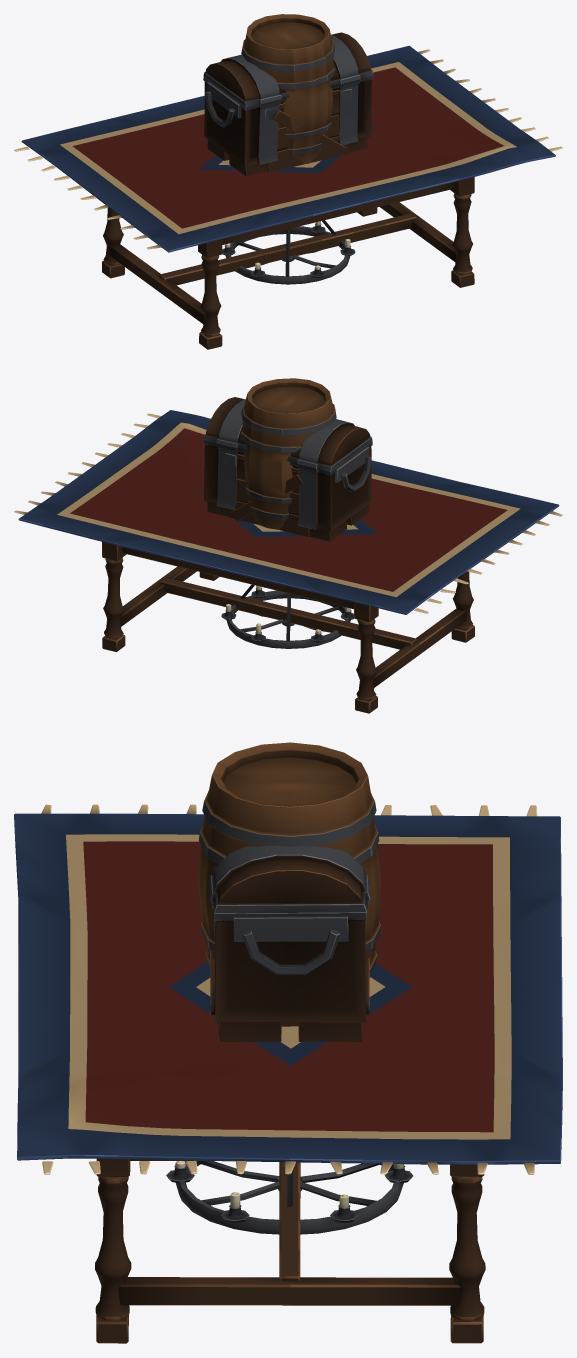
The model's file is props.glb.
3 views of the same model, one above another, from view 1: azimuth 30°, elevation 25°; view 2: azimuth 150°, elevation 25°; view 3: azimuth 270°, elevation 25° (orthographic). The views are drawn at different scales.
Parts seen in each view (by area): view 1: rug, table, chest, barrel, candle_wheel, crate; view 2: rug, table, chest, barrel, candle_wheel, crate; view 3: rug, chest, table, barrel, candle_wheel.
Part boxes in pixels (x1,y1,x2,y2): rug: [14, 45, 562, 252]; table: [102, 177, 474, 349]; chest: [203, 32, 373, 176]; barrel: [241, 14, 335, 164]; candle_wheel: [222, 220, 355, 284]; crate: [265, 88, 351, 172]; rug: [14, 410, 562, 614]; table: [102, 542, 474, 713]; chest: [203, 397, 372, 541]; barrel: [240, 378, 336, 529]; candle_wheel: [221, 584, 354, 648]; crate: [225, 453, 309, 536]; rug: [14, 804, 562, 1174]; chest: [208, 845, 370, 1041]; table: [95, 1158, 485, 1343]; barrel: [198, 742, 381, 977]; candle_wheel: [166, 1161, 413, 1234].
Size of the model in its own units: 2.57 by 1.46 by 1.61.
19 materials, 19 textured.
